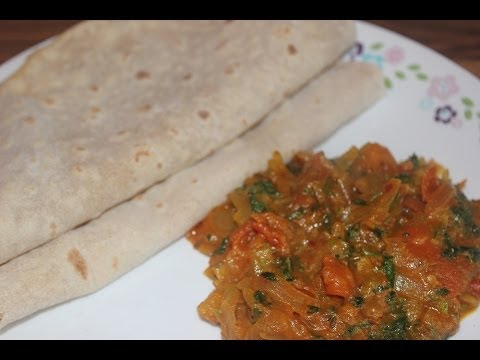curry: (254, 172, 458, 330)
roti: (14, 20, 365, 144), (4, 155, 208, 265)
